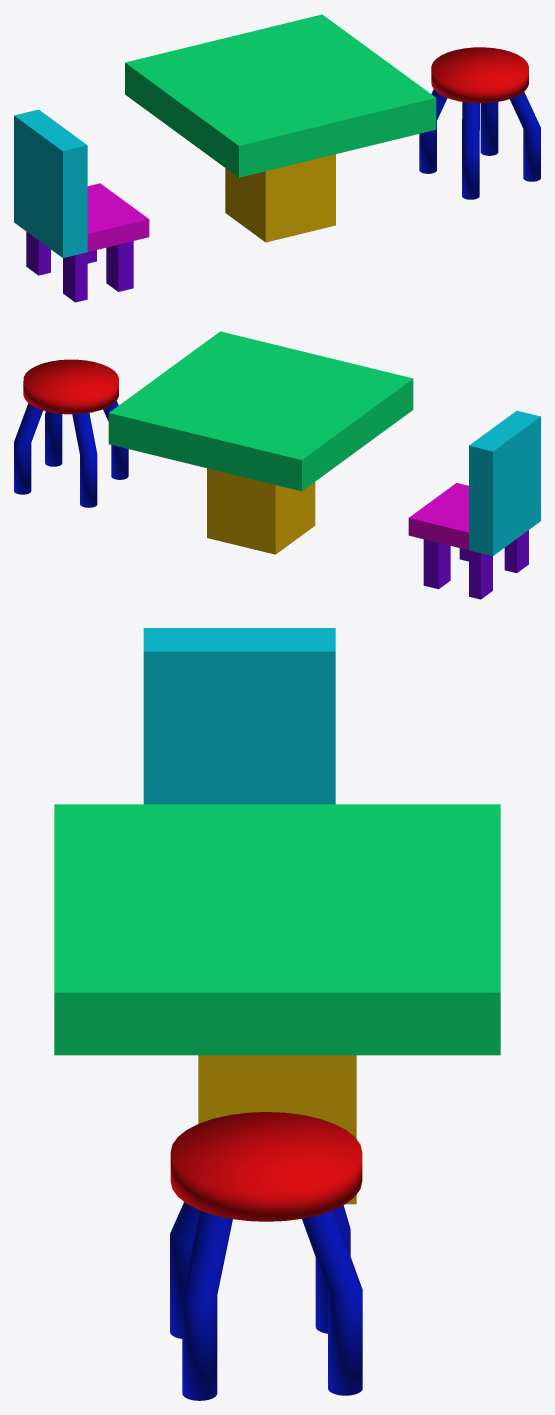
Rendered from Chair Stool And Table For Texturing.fbx.
3 renders of one model, top to bottom at view 1: azimuth 30°, elevation 25°; view 2: azimuth 150°, elevation 25°; view 3: azimuth 270°, elevation 25°, orthographic. The views are drawn at different scales.
Parts seen in each view (by area): view 1: Table, Chair, Stool; view 2: Table, Chair, Stool; view 3: Table, Chair, Stool.
Part boxes in pixels (x1,y1,x2,y2): Table: (125,14,436,242); Chair: (14,109,149,302); Stool: (419,47,540,199); Table: (108,331,413,554); Chair: (408,410,540,599); Stool: (14,359,128,507); Table: (54,804,500,1204); Chair: (143,628,335,804); Stool: (170,1112,362,1400).
Bounding box in the file's own units: 1158 × 349 × 465.
